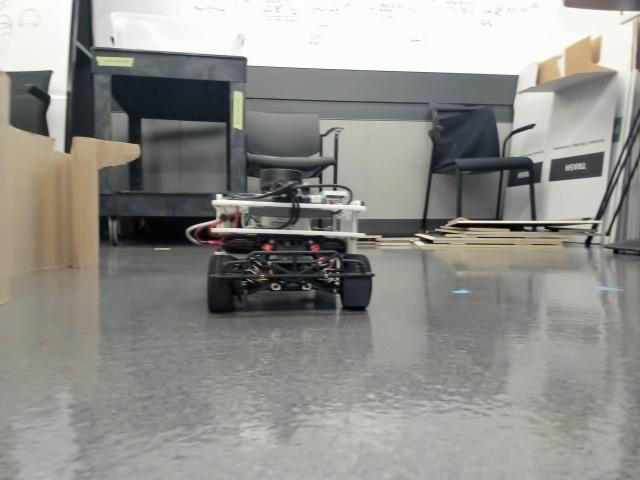Car: (205, 167, 375, 311)
